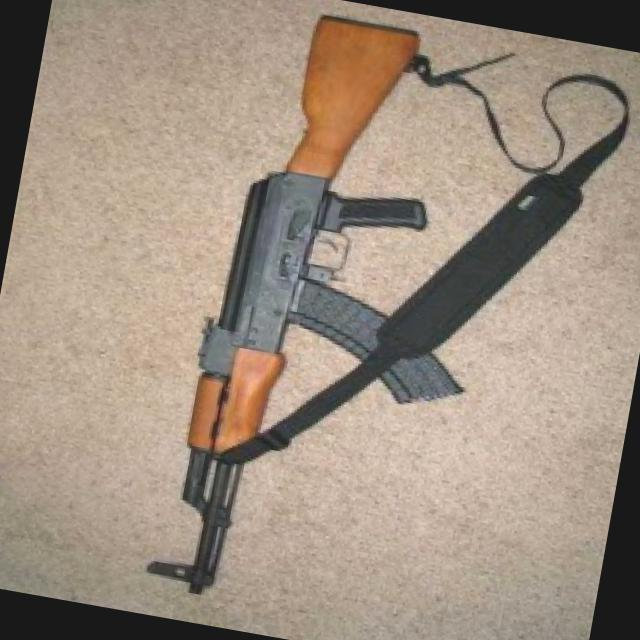long weapon: (110, 0, 425, 627)
